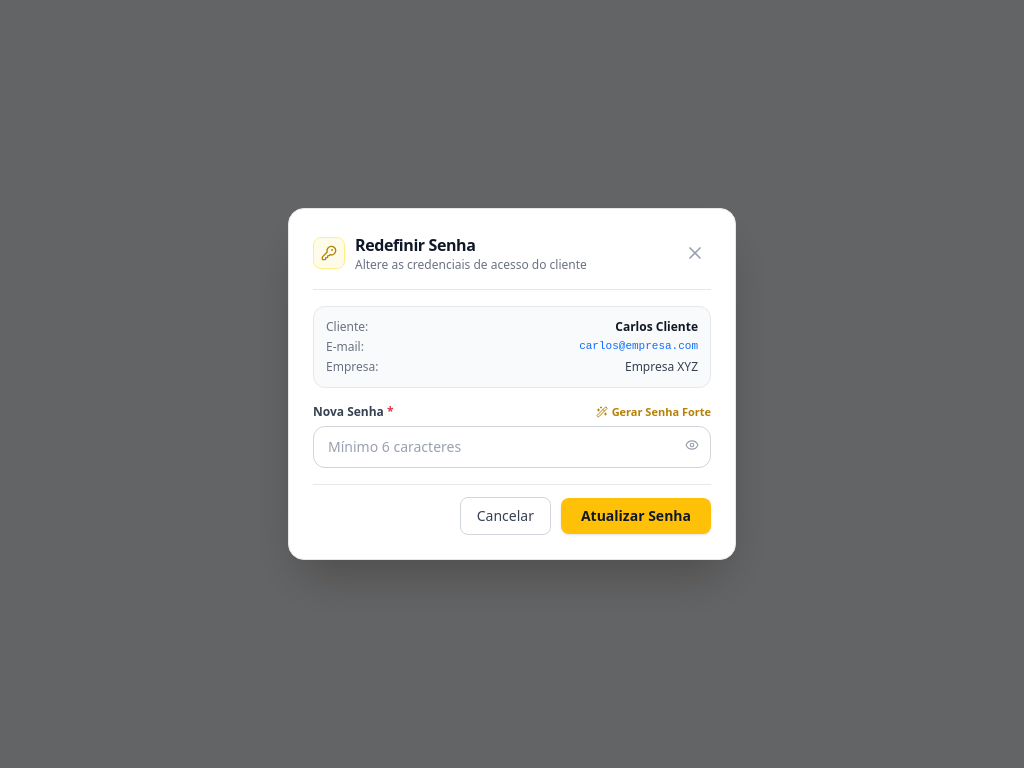
Test: components/suporte/ResetPasswordModal › should display validation error when password is too short
Type "123" into the password field with placeholder "Mínimo 6 caracteres". click: (512, 447)
box: [313, 426, 711, 468]
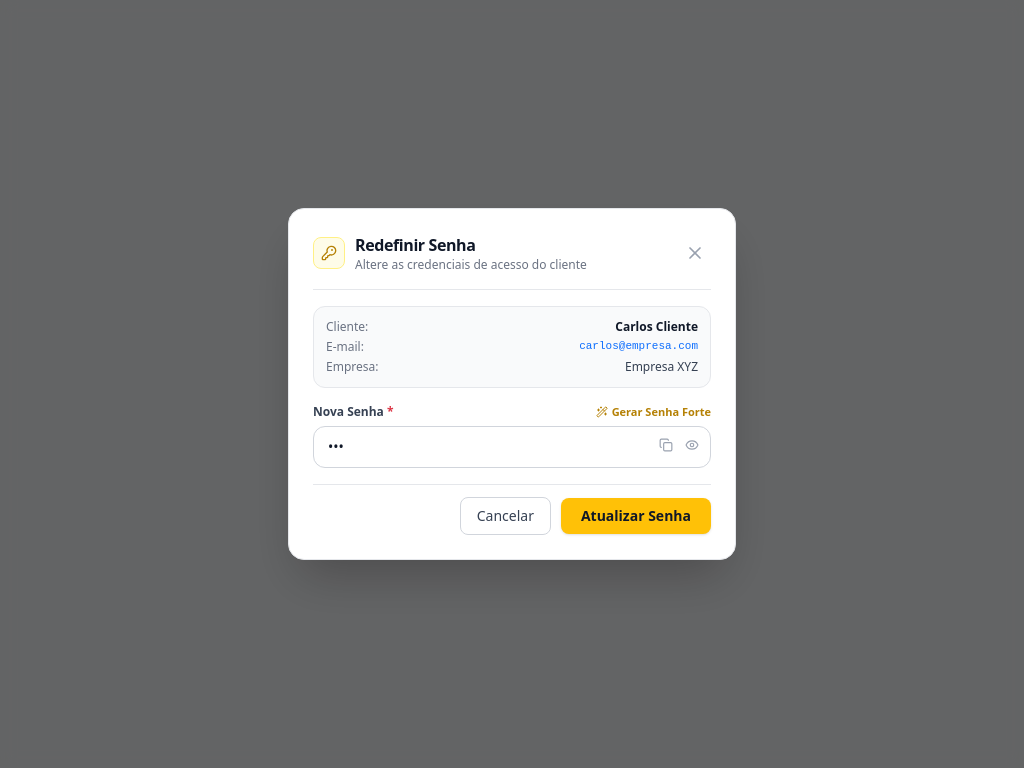
Click the button "Atualizar Senha". click: (636, 516)
box: [561, 498, 711, 534]
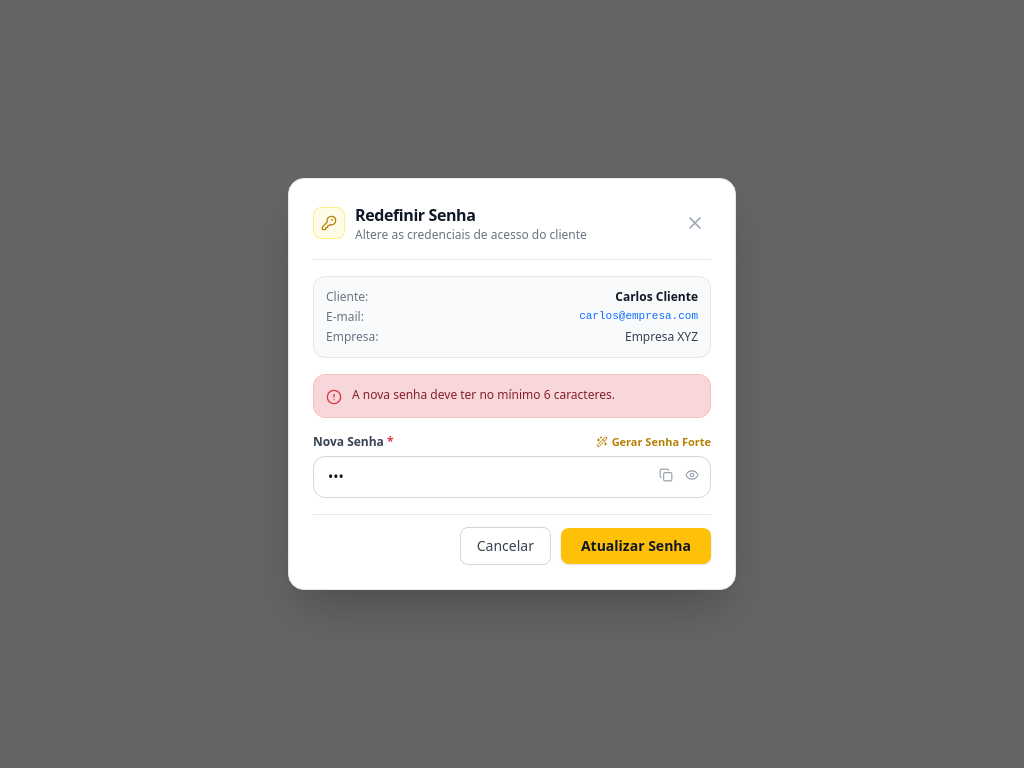
Expected: the text "A nova senha deve ter no mínimo 6 caracteres." is shown, [352, 387, 615, 403]
